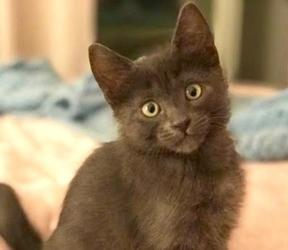rblue: (84, 1, 245, 171)
